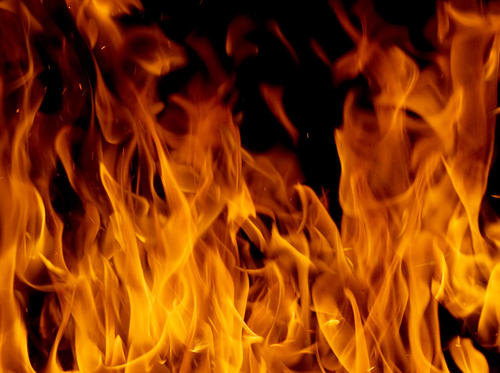fire: (1, 106, 498, 343)
